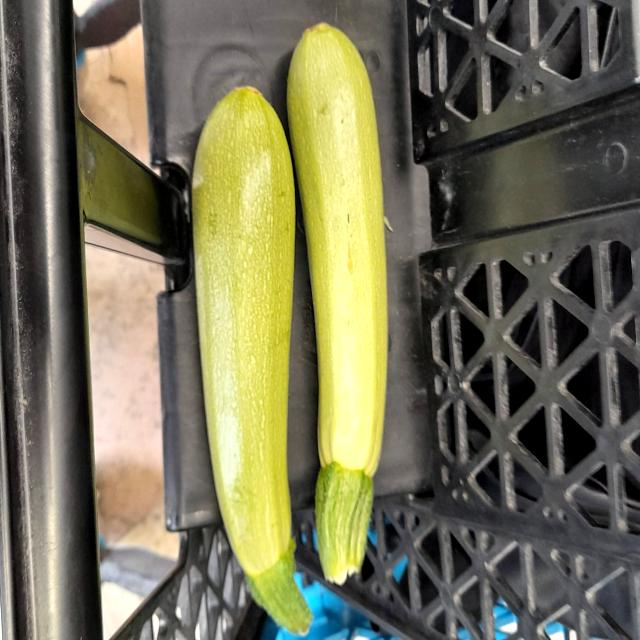zucchini: (186, 64, 313, 640), (280, 13, 402, 593)
